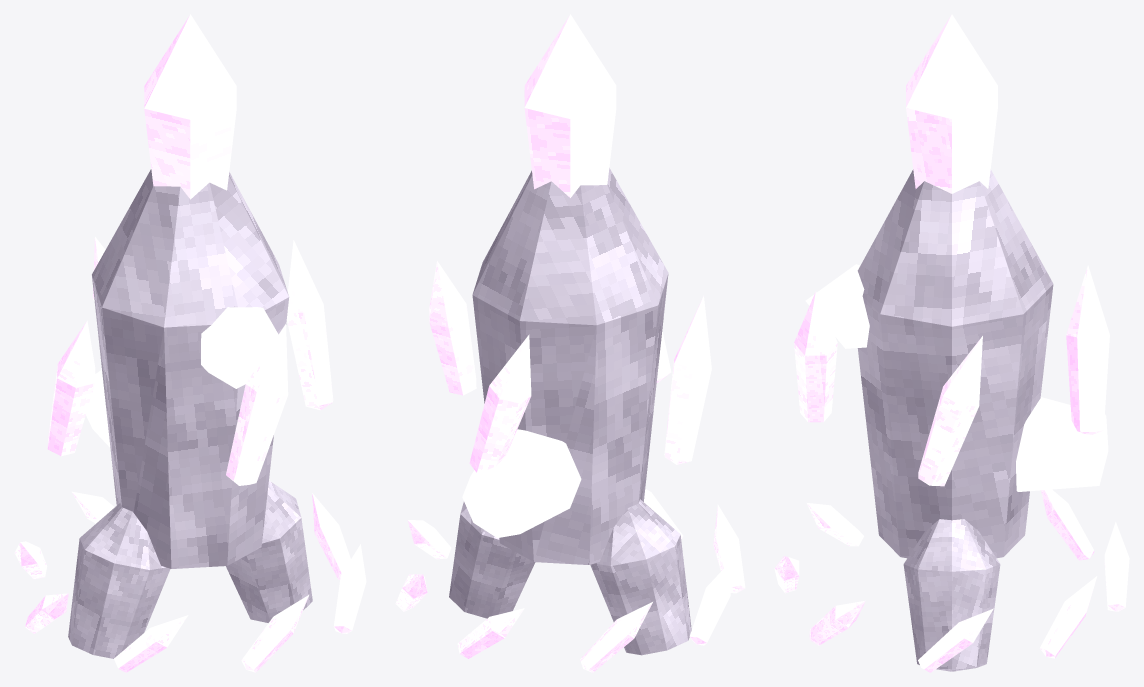
The model's file is deep-fracture-obelisk-warden-visual-seidr.glb.
3 views of the same model, side by side, from view 1: azimuth 30°, elevation 25°; view 2: azimuth 150°, elevation 25°; view 3: azimuth 270°, elevation 25° (orthographic).
Parts seen in each view (by area): view 1: central-obelisk, crown-spire, base-left, base-right, secondary-crystal-1, secondary-crystal-0, control-core, secondary-crystal-2, ground-prong-2, ground-prong-1, ground-prong-3, ground-prong-0 (+4 smaller); view 2: central-obelisk, crown-spire, base-left, death-anchor, base-right, secondary-crystal-2, secondary-crystal-3, secondary-crystal-0, ground-prong-5, ground-prong-4, ground-prong-3, ground-prong-6 (+2 smaller); view 3: central-obelisk, crown-spire, base-right, death-anchor, secondary-crystal-3, secondary-crystal-0, secondary-crystal-1, control-core, ground-prong-7, ground-prong-0, ground-prong-5, ground-prong-6 (+3 smaller).
Part boxes in pixels (box(x1,y1,x2,y2)): central-obelisk: box(92, 169, 289, 568); crown-spire: box(144, 14, 236, 199); base-left: box(68, 503, 170, 658); base-right: box(226, 480, 312, 622); secondary-crystal-1: box(226, 324, 288, 485); secondary-crystal-0: box(286, 240, 333, 410); control-core: box(201, 307, 278, 388); secondary-crystal-2: box(47, 320, 95, 456); ground-prong-2: box(241, 595, 308, 672); ground-prong-1: box(333, 544, 366, 633); ground-prong-3: box(114, 615, 188, 672); ground-prong-0: box(312, 493, 350, 579); central-obelisk: box(472, 168, 668, 564); crown-spire: box(524, 14, 616, 197); base-left: box(590, 499, 691, 655); death-anchor: box(462, 429, 581, 537); base-right: box(449, 502, 535, 618); secondary-crystal-2: box(664, 295, 711, 464); secondary-crystal-3: box(469, 334, 531, 473); secondary-crystal-0: box(429, 261, 476, 395); ground-prong-5: box(580, 602, 652, 672); ground-prong-4: box(689, 559, 733, 645); ground-prong-3: box(713, 504, 745, 593); ground-prong-6: box(457, 608, 524, 658); central-obelisk: box(857, 169, 1053, 558); crown-spire: box(906, 14, 997, 193); base-right: box(903, 519, 1000, 671); death-anchor: box(1016, 397, 1108, 491); secondary-crystal-3: box(1066, 265, 1109, 434); secondary-crystal-0: box(918, 336, 982, 486); secondary-crystal-1: box(794, 291, 837, 422); control-core: box(805, 264, 869, 348); ground-prong-7: box(1040, 576, 1097, 658); ground-prong-0: box(918, 608, 993, 672); ground-prong-5: box(1041, 489, 1094, 560); ground-prong-6: box(1104, 522, 1129, 611).
Bounding box in the file's own units: 3.08 × 5.89 × 3.08.
Materials: 3 (3 with a texture image).
